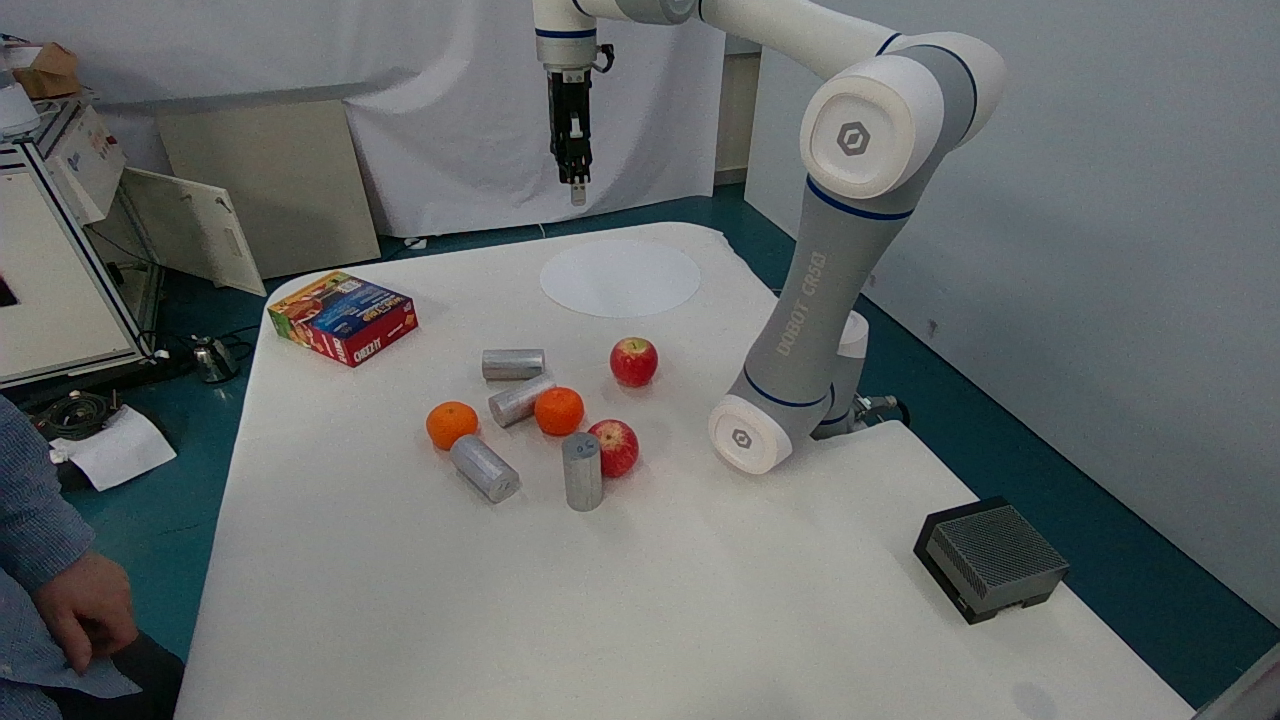apple: (417, 390, 490, 456), (530, 383, 594, 438)
metal rod: (582, 414, 646, 487), (603, 333, 666, 392)
orange: (430, 421, 523, 511), (486, 362, 568, 427), (555, 426, 611, 509), (472, 335, 557, 381)
